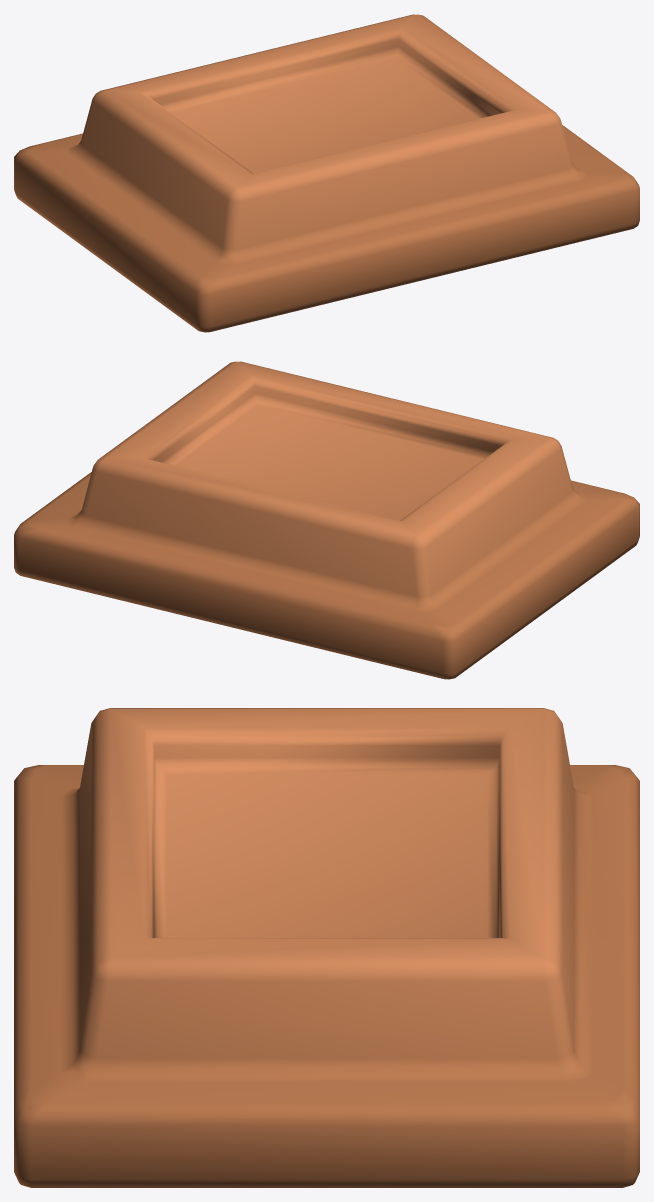
The model's file is candy_choco_17.fbx.
3 views of the same model, one above another, from view 1: azimuth 30°, elevation 25°; view 2: azimuth 150°, elevation 25°; view 3: azimuth 270°, elevation 25° (orthographic). The views are drawn at different scales.
Parts seen in each view (by area): view 1: c_c_17; view 2: c_c_17; view 3: c_c_17.
Boxes of the visible parts, <box> form: c_c_17: <box>14,14,639,332</box>; c_c_17: <box>14,361,639,679</box>; c_c_17: <box>14,708,639,1187</box>.
Bounding box in the file's own units: 149 × 36.29 × 111.
